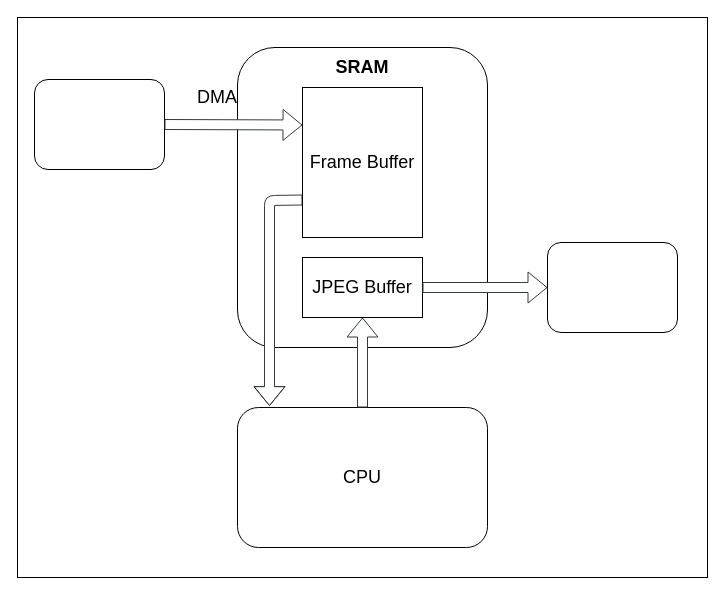
Image size: 725x595. Some labels were removed from this diagram. Here are the shapes that lost their labels. From the top down, the box of each, then its label:
(34, 78, 164, 170): CAMERA
(546, 242, 678, 332): SERIAL
